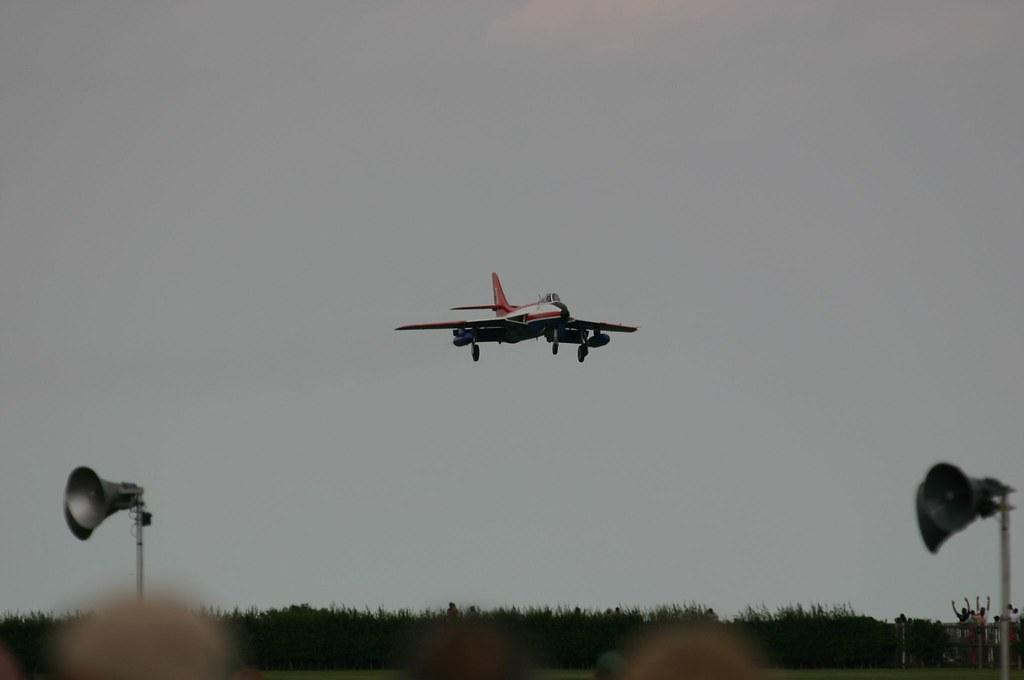plane: (394, 272, 639, 364)
